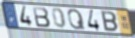0: (52, 7, 68, 30)
4: (86, 9, 102, 33), (19, 4, 34, 28)
B: (32, 6, 52, 29), (100, 10, 119, 33)
Q: (67, 8, 87, 31)
